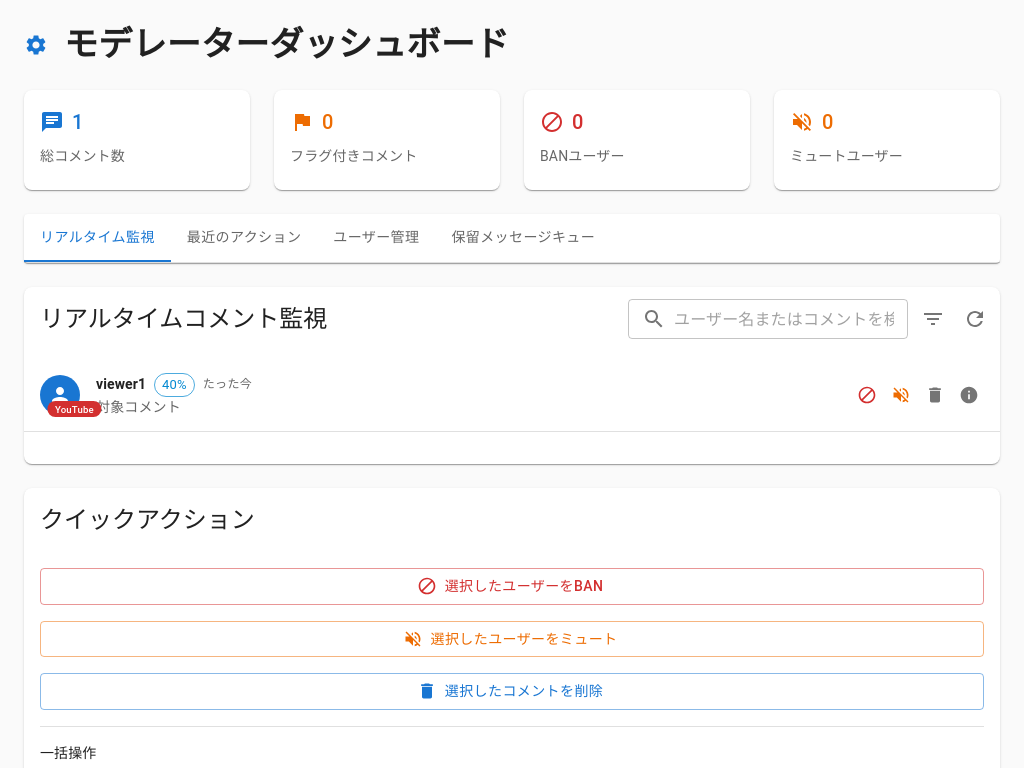
it: モデレーション履歴に架空データを混ぜないこと › プラットフォーム側へ反映できなかったBANをそう表示する（R-28b の後半）
expect the text "対象コメント" is shown: met, box [96,399,181,415]
Step 1. Click the button named "ユーザーをBAN" → (867, 395), box [852,380,882,410]
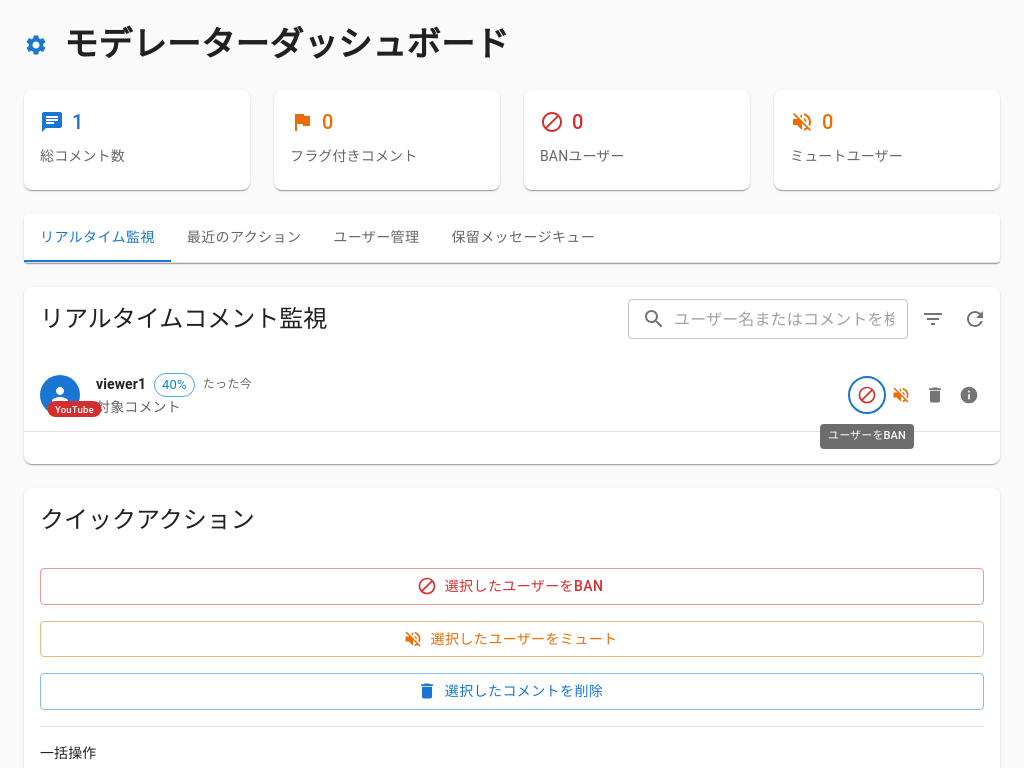
Step 2. Click the tab "最近のアクション" → (244, 238), box [171,214,317,262]
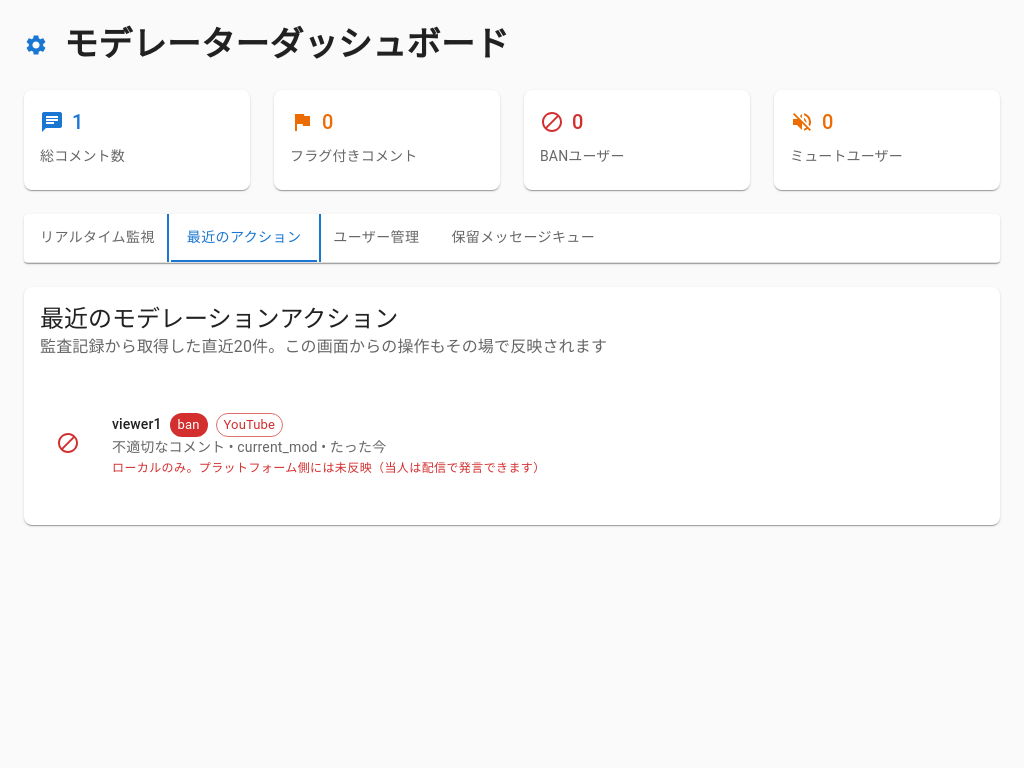
expect the text "ローカルのみ。プラットフォーム側には未反映（当人は配信で発言できます）" is shown: met, box [112,461,546,475]
